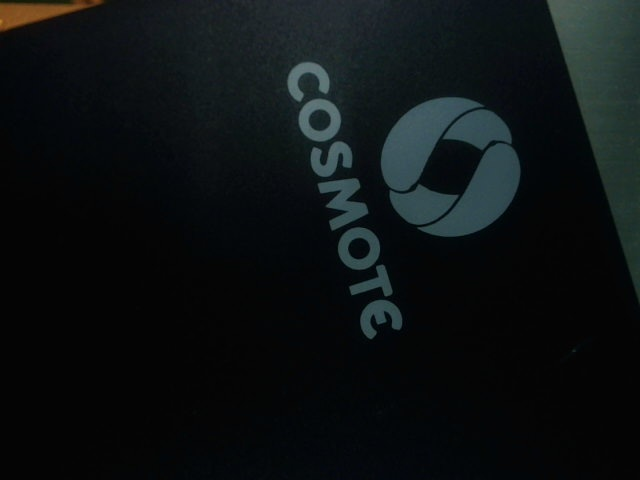AU_COSMOTE: (267, 49, 544, 340)
